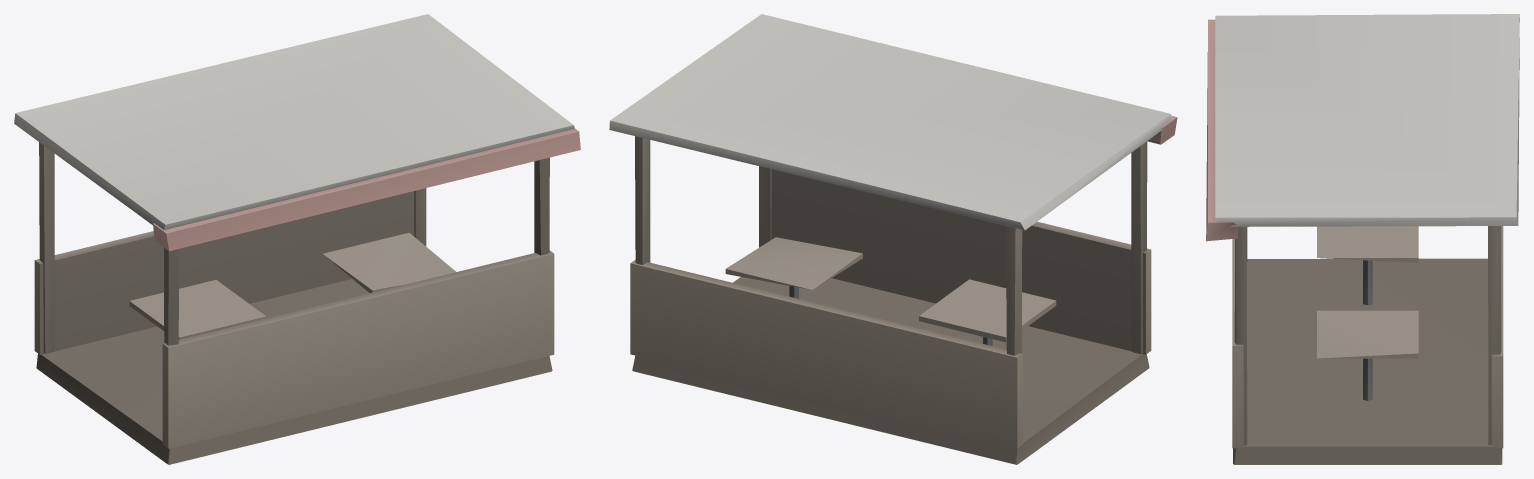
The model's file is dining.lod1.glb.
3 renders of one model, left to right at view 1: azimuth 30°, elevation 25°; view 2: azimuth 150°, elevation 25°; view 3: azimuth 270°, elevation 25°, orthographic.
Size of the model in its own units: 4.29 by 2.49 by 2.78.
